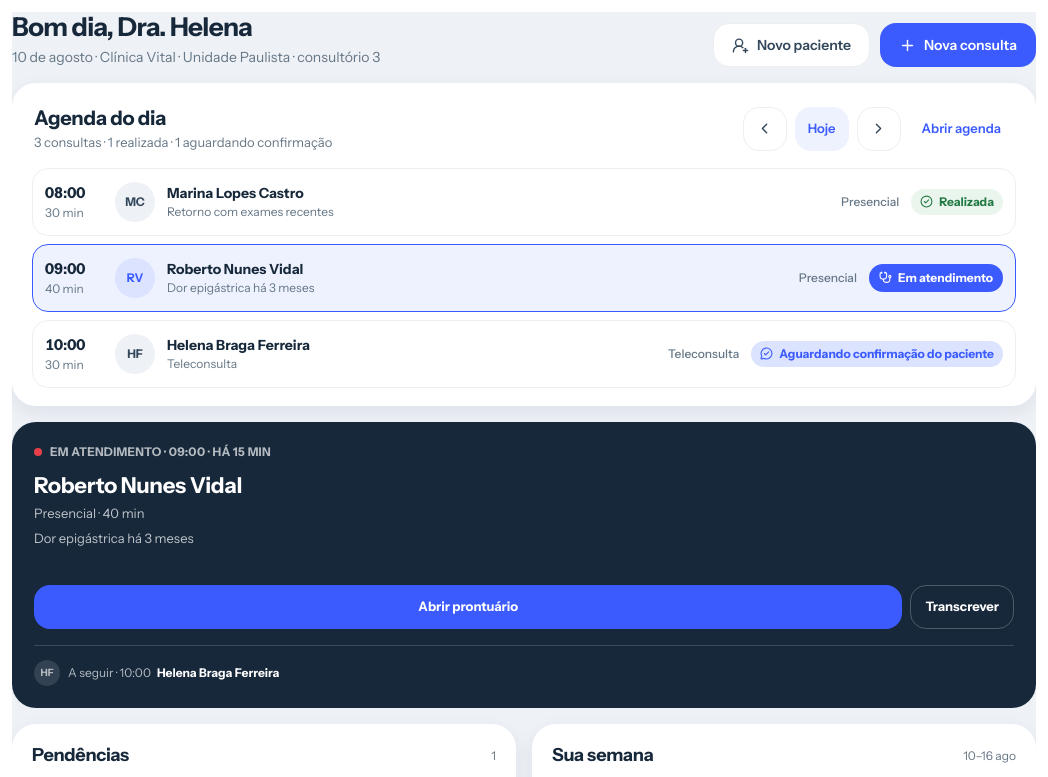
it: navega pelos dias mantendo o contexto na URL
Expected: the heading "Agenda do dia" is shown, [34, 106, 166, 130]
Click the button named "Próximo dia" at point(878, 129), box [856, 107, 900, 151]
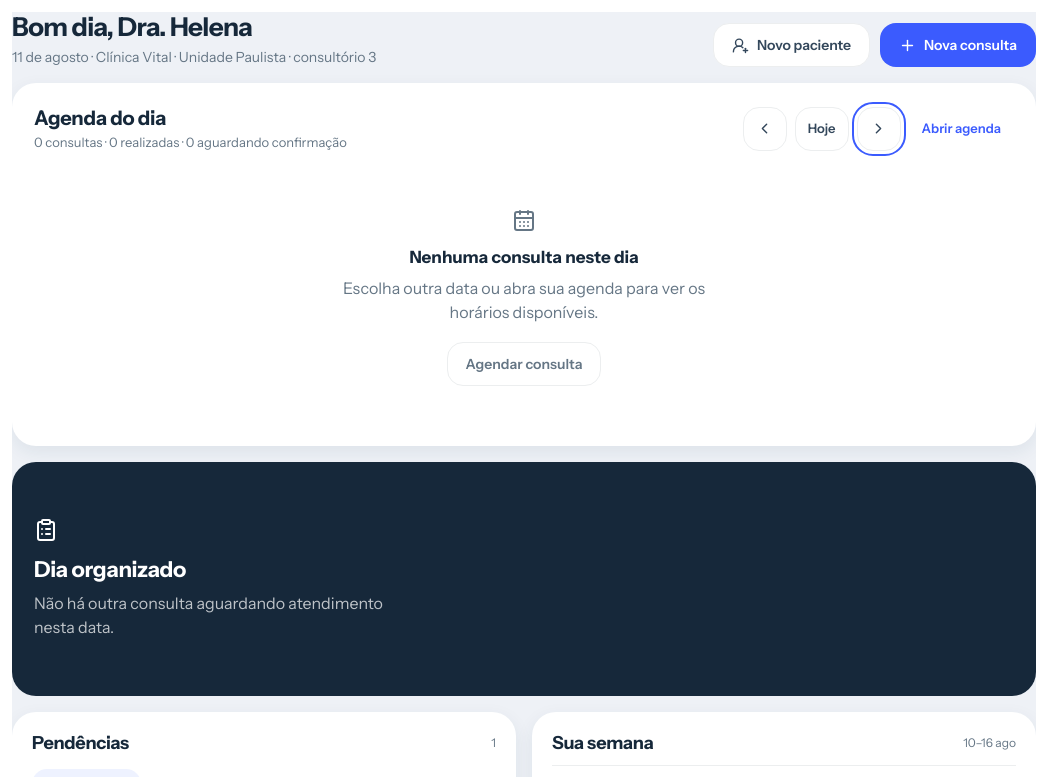
Expected: the text "11 de agosto" is shown, [12, 48, 89, 66]
Expected: the text "Nenhuma consulta neste dia" is shown, [409, 245, 639, 270]
